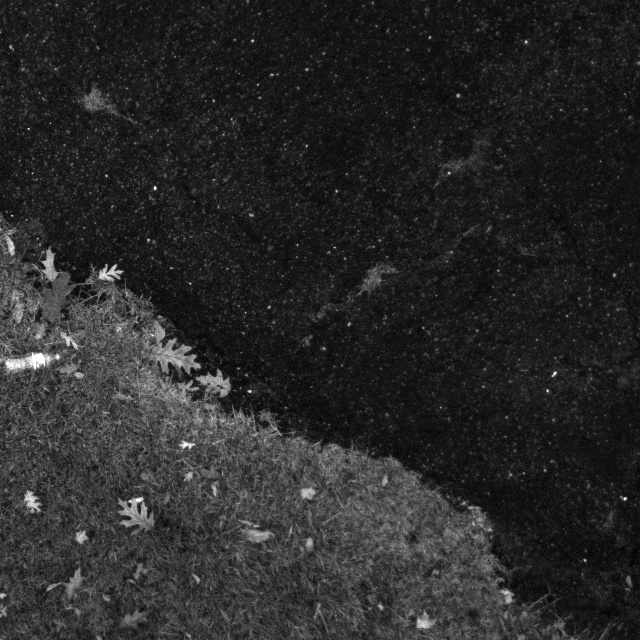bottle: (4, 345, 68, 383)
